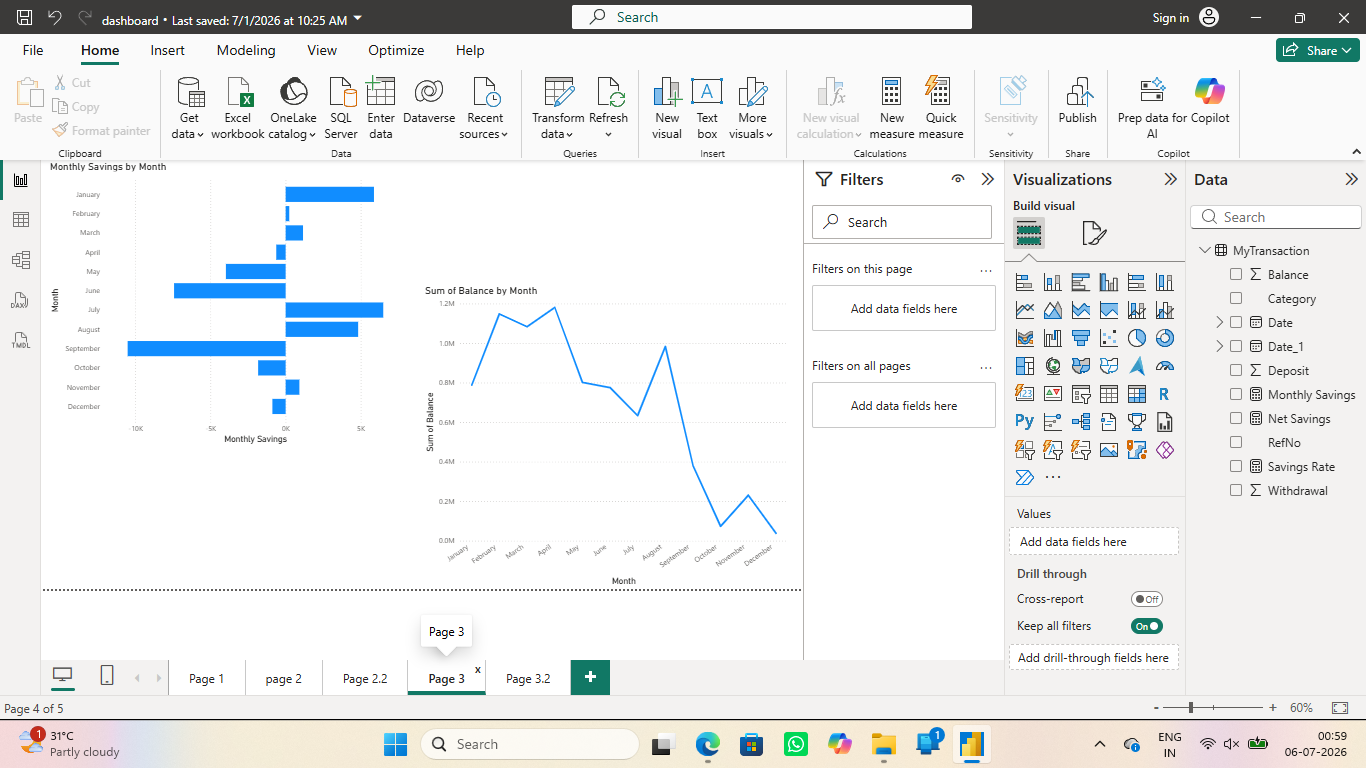

The dashboard page shown, as its layout file describes it:
{"tool":"powerbi","page":{"name":"Page 3","canvas":[1280,720],"ordinal":3},"visuals":[{"type":"clusteredBarChart","fields":{"Y":["MyTransaction.Monthly Savings"],"Category":["MyTransaction.Date.Variation.Date Hierarchy.Month"]},"box":[10.1,0,614.8,482.1],"z":0},{"type":"lineChart","fields":{"Y":["Sum(MyTransaction.Balance)"],"Category":["MyTransaction.Date.Variation.Date Hierarchy.Month"]},"box":[640,208.3,618.2,512.3],"z":1000}]}

Visuals, with their boxes on the page's 1280x720 design canvas (x1, y1, x2, y2). These are canvas units, not pixel positions in the 1366x768 screenshot, which may show the page scaled, cropped or inside an application window:
clusteredBarChart - MyTransaction.Monthly Savings x MyTransaction.Date.Variation.Date Hierarchy.Month: (x1=10, y1=0, x2=625, y2=482)
lineChart - Sum(MyTransaction.Balance) x MyTransaction.Date.Variation.Date Hierarchy.Month: (x1=640, y1=208, x2=1258, y2=721)
